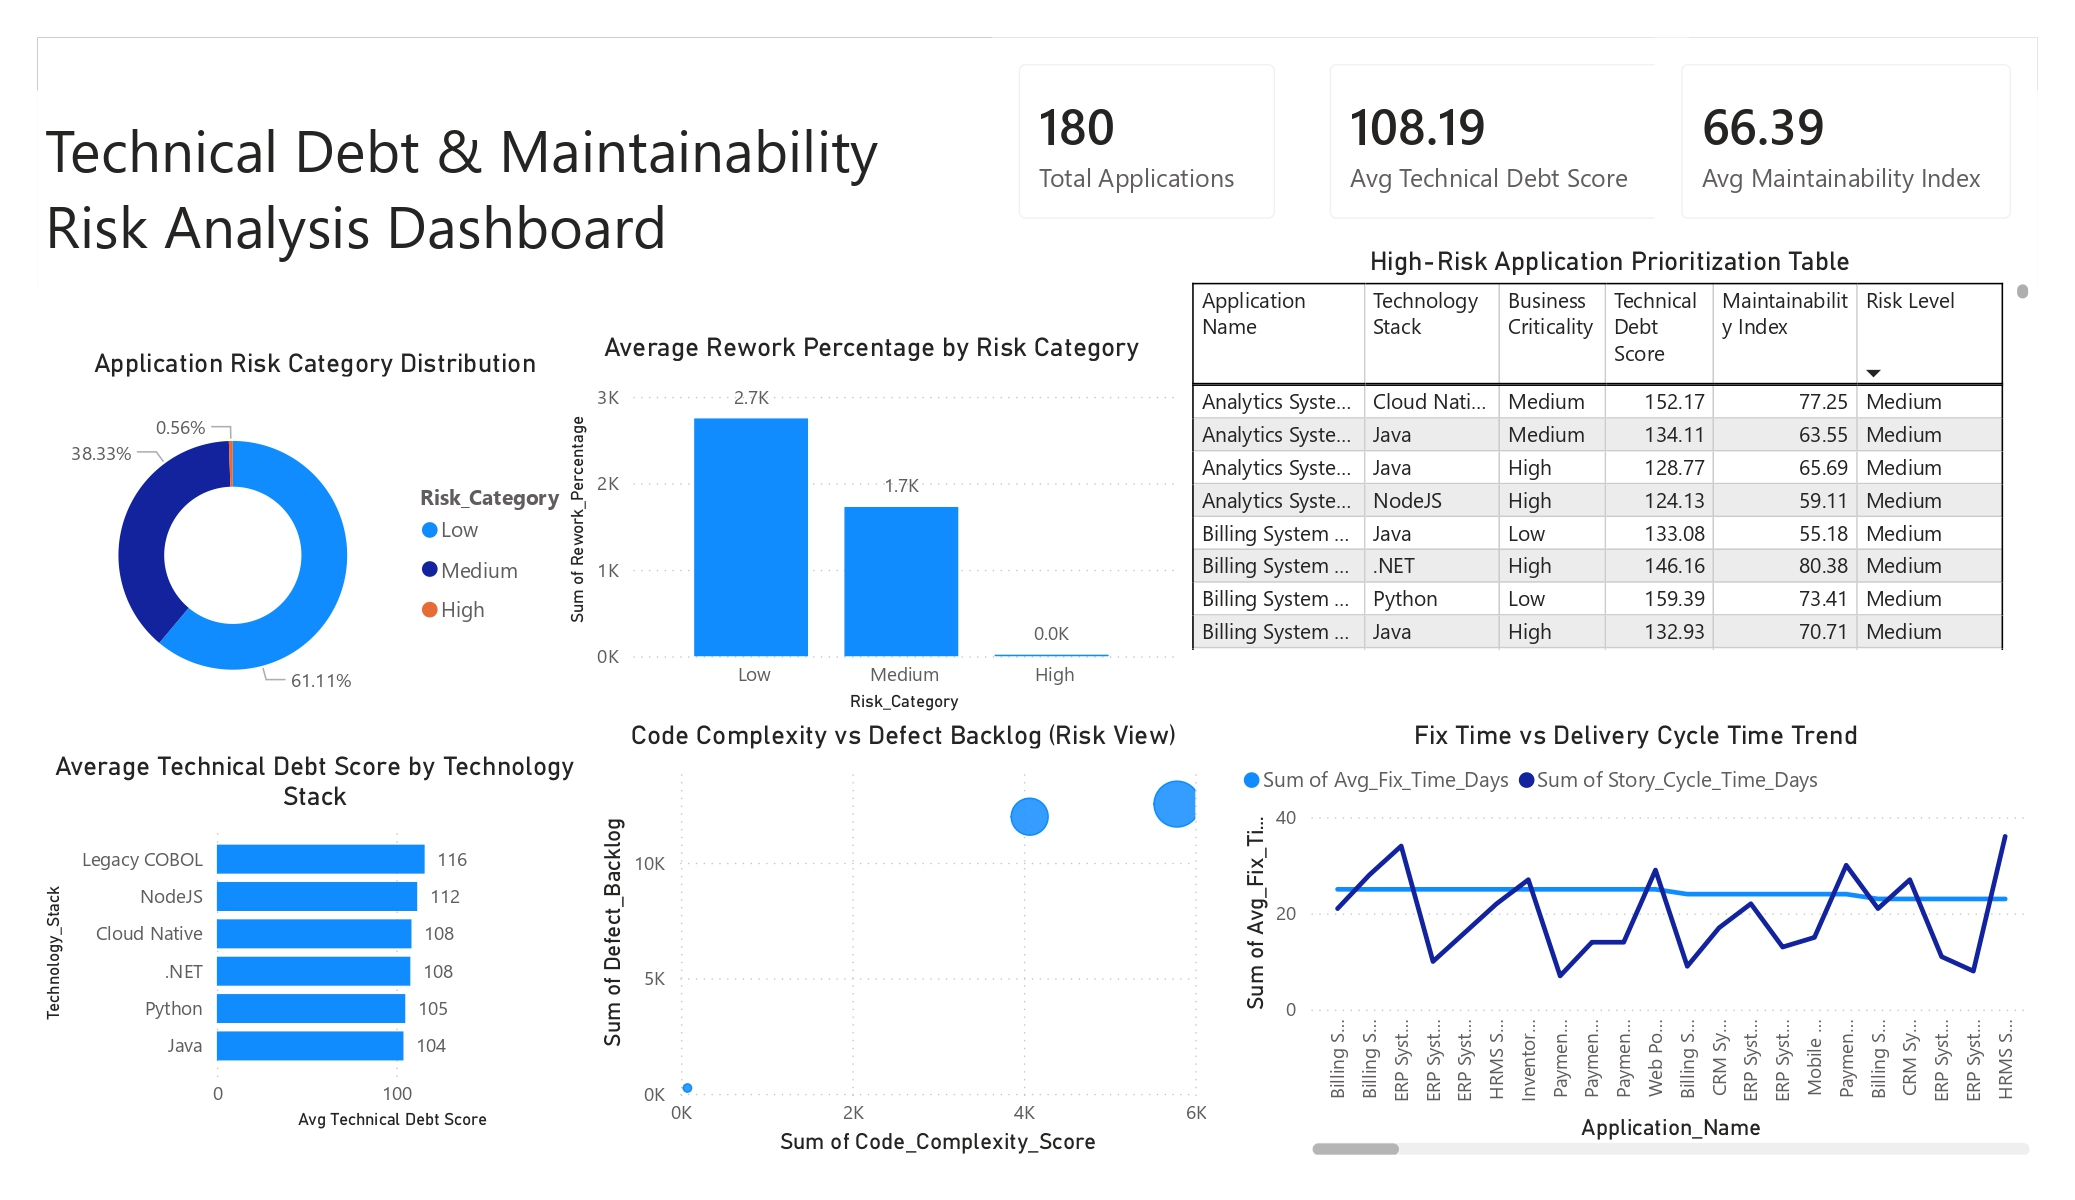

This screenshot's page, from the dashboard's own definition file:
{"tool":"powerbi","page":{"name":"Page 1","canvas":[1280,720],"ordinal":0},"visuals":[{"type":"cardVisual","fields":{"Data":["Technical_Debt_Data.Total Applications"]},"box":[610.6,0,199,133.1],"z":0},{"type":"cardVisual","fields":{"Data":["Technical_Debt_Data.Avg Technical Debt Score"]},"box":[809.6,0,247,133.1],"z":2},{"type":"cardVisual","fields":{"Data":["Technical_Debt_Data.Avg Maintainability Index"]},"box":[1034.7,0,245.6,133.1],"z":3},{"type":"donutChart","title":"Application Risk Category Distribution","fields":{"Category":["Technical_Debt_Data.Risk_Category"],"Y":["CountNonNull(Technical_Debt_Data.Application_ID)"]},"box":[0,197.6,355.4,248.4],"z":4},{"type":"barChart","title":"Average Technical Debt Score by Technology Stack","fields":{"Y":["Technical_Debt_Data.Avg Technical Debt Score"],"Category":["Technical_Debt_Data.Technology_Stack"]},"box":[0,456,355,248],"z":5},{"type":"scatterChart","title":"Code Complexity vs Defect Backlog (Risk View)","fields":{"X":["Sum(Technical_Debt_Data.Code_Complexity_Score)"],"Y":["Sum(Technical_Debt_Data.Defect_Backlog)"],"Size":["Sum(Technical_Debt_Data.Maintenance_Effort_Hours)"],"Category":["Technical_Debt_Data.Risk_Category"]},"box":[355.4,436.4,397.9,284],"z":6},{"type":"columnChart","title":"Average Rework Percentage by Risk Category","fields":{"Category":["Technical_Debt_Data.Risk_Category"],"Y":["Sum(Technical_Debt_Data.Rework_Percentage)"]},"box":[334.8,188,397.9,248.4],"z":7},{"type":"lineChart","title":"Fix Time vs Delivery Cycle Time Trend","fields":{"Category":["Technical_Debt_Data.Application_Name"],"Y":["Sum(Technical_Debt_Data.Avg_Fix_Time_Days)","Sum(Technical_Debt_Data.Story_Cycle_Time_Days)"]},"box":[765.7,436.4,514.6,284],"z":8},{"type":"tableEx","title":"High-Risk Application Prioritization Table","fields":{"Values":["Technical_Debt_Data.Application_Name","Technical_Debt_Data.Technology_Stack","Technical_Debt_Data.Business_Criticality","Sum(Technical_Debt_Data.Technical_Debt_Score)","Sum(Technical_Debt_Data.Maintainability_Index)","Technical_Debt_Data.Risk_Category"]},"box":[732.8,133.1,547.5,263.5],"z":9},{"type":"textbox","box":[0,41.2,565.4,112.5],"z":10}]}

Visuals, with their boxes on the page's 1280x720 design canvas (x1, y1, x2, y2). These are canvas units, not pixel positions in the 2075x1200 screenshot, which may show the page scaled, cropped or inside an application window:
cardVisual - Technical_Debt_Data.Total Applications: x1=611, y1=0, x2=810, y2=133
cardVisual - Technical_Debt_Data.Avg Technical Debt Score: x1=810, y1=0, x2=1057, y2=133
cardVisual - Technical_Debt_Data.Avg Maintainability Index: x1=1035, y1=0, x2=1280, y2=133
"Application Risk Category Distribution" donutChart: x1=0, y1=198, x2=355, y2=446
"Average Technical Debt Score by Technology Stack" barChart: x1=0, y1=456, x2=355, y2=704
"Code Complexity vs Defect Backlog (Risk View)" scatterChart: x1=355, y1=436, x2=753, y2=720
"Average Rework Percentage by Risk Category" columnChart: x1=335, y1=188, x2=733, y2=436
"Fix Time vs Delivery Cycle Time Trend" lineChart: x1=766, y1=436, x2=1280, y2=720
"High-Risk Application Prioritization Table" tableEx: x1=733, y1=133, x2=1280, y2=397
textbox: x1=0, y1=41, x2=565, y2=154
